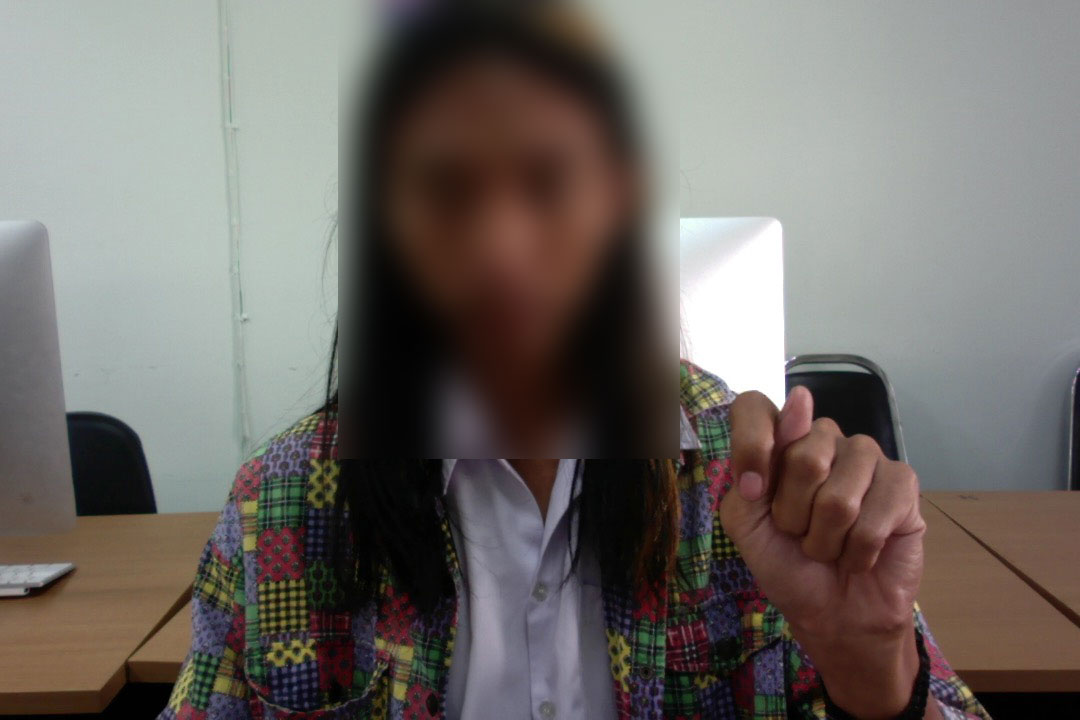tor: (710, 385, 936, 680)
